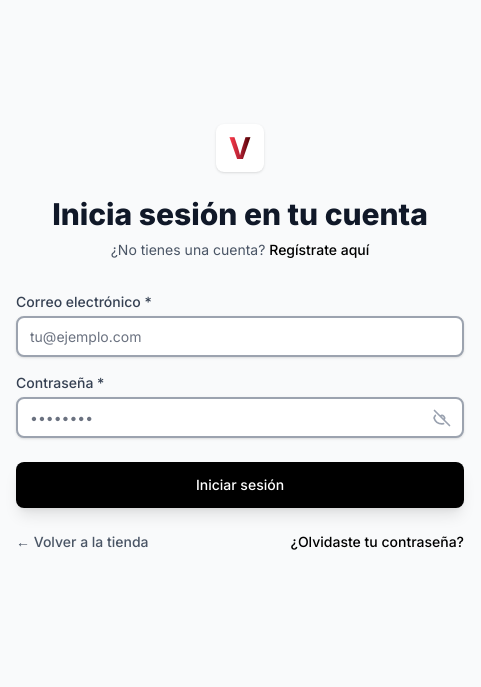
Scenario: AuthForm - Coverage Tests › should switch between login and register modes
Expected: the heading "Inicia sesión en tu cuenta" is shown, 52,196 -> 428,232
Encontrar el botón para cambiar a registro
What coordinates should you click on to do the following:
click the button "Regístrate aquí"
I would click on:
 (319, 250)
Its box is 269,240 -> 369,260.
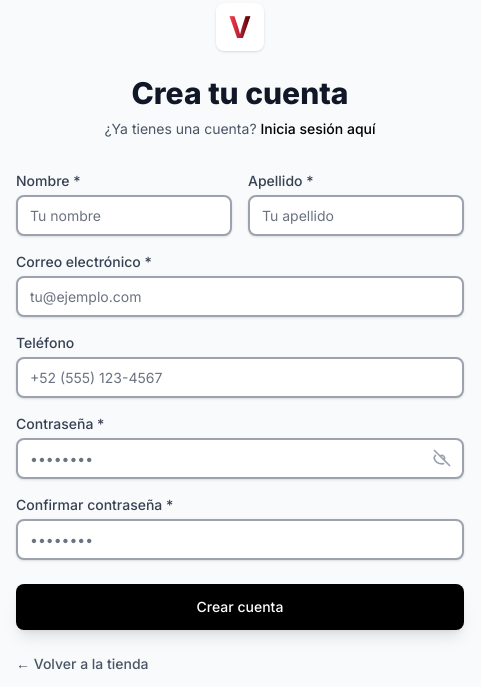
Expected: the heading "Crea tu cuenta" is shown, 132,74 -> 348,110
